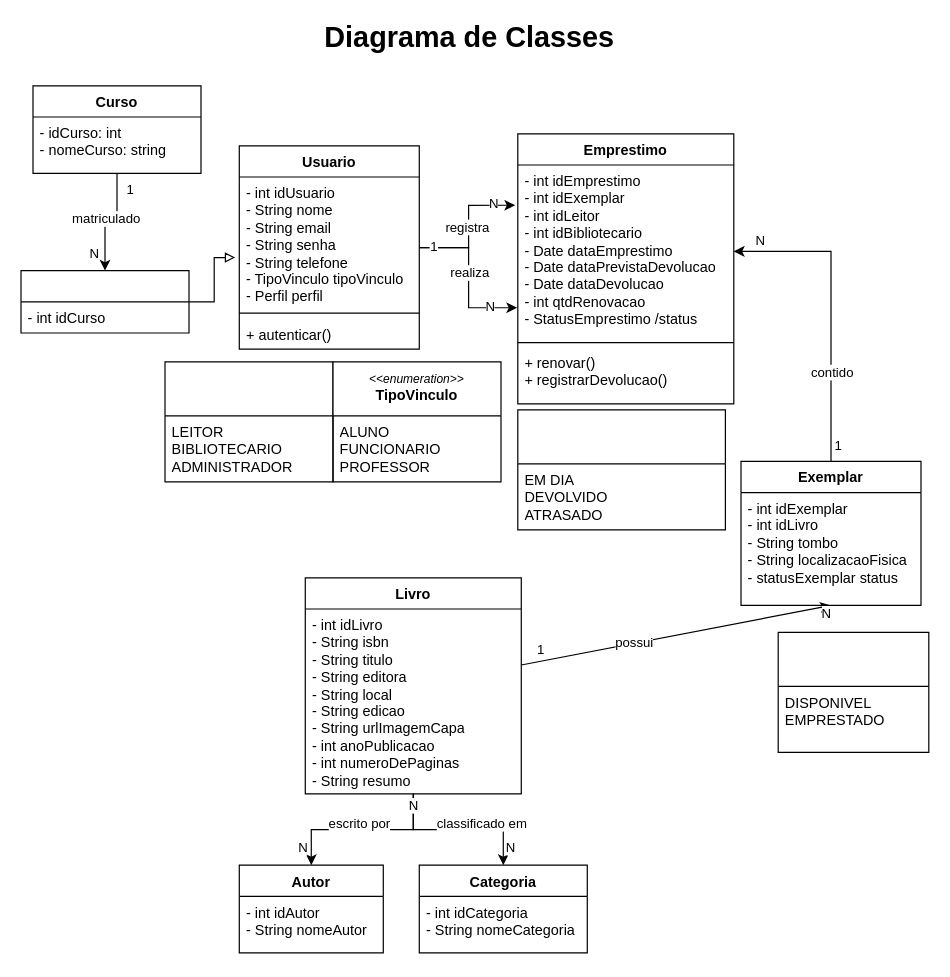
This 950x977 diagram has some shape labels left out. The shapes that lost their labels are listed below. From the top down, each one's box as (x1, y1, x2, y2) in pixels, then its label:
(20, 269, 189, 333): Aluno
(164, 361, 333, 482): <<enumeration>> Perfil
(517, 409, 725, 530): <<enumeration>> StatusEmprestimo
(777, 631, 929, 752): <<enumeration>> StatusExemplar
